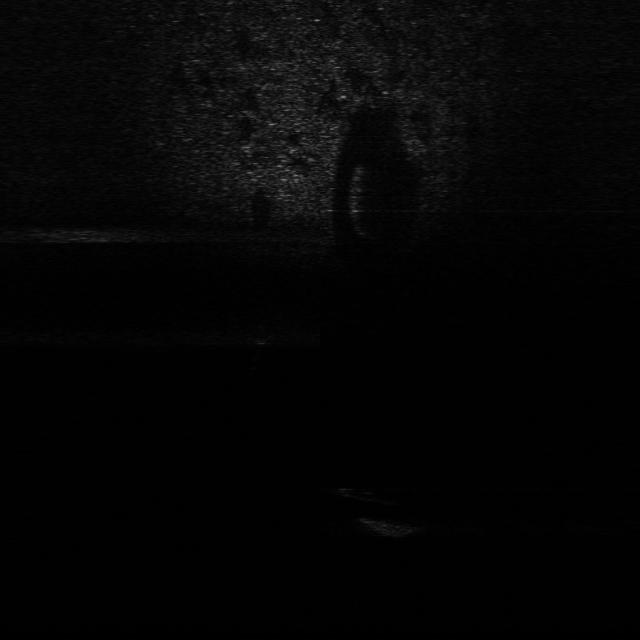ball: (244, 324, 277, 348)
metal bucket: (361, 515, 423, 540)
tyre: (328, 477, 393, 506)
